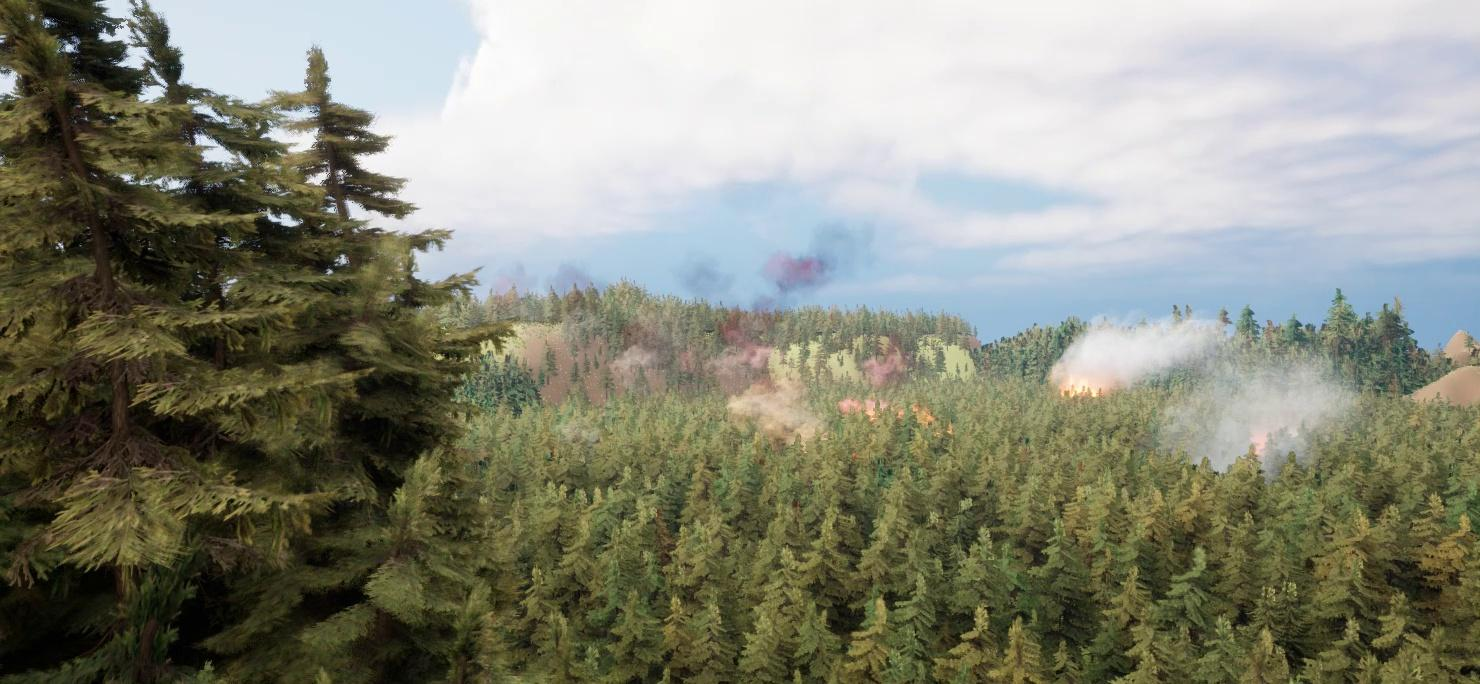fire: (839, 381, 944, 440), (1052, 370, 1121, 399)
smoke: (526, 222, 867, 388), (1067, 309, 1354, 468)
